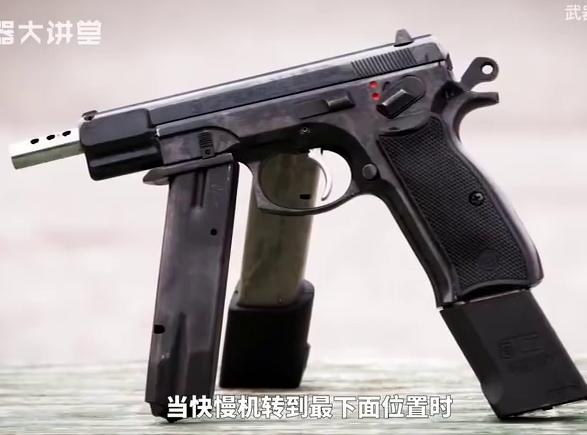gun: (1, 1, 587, 435)
